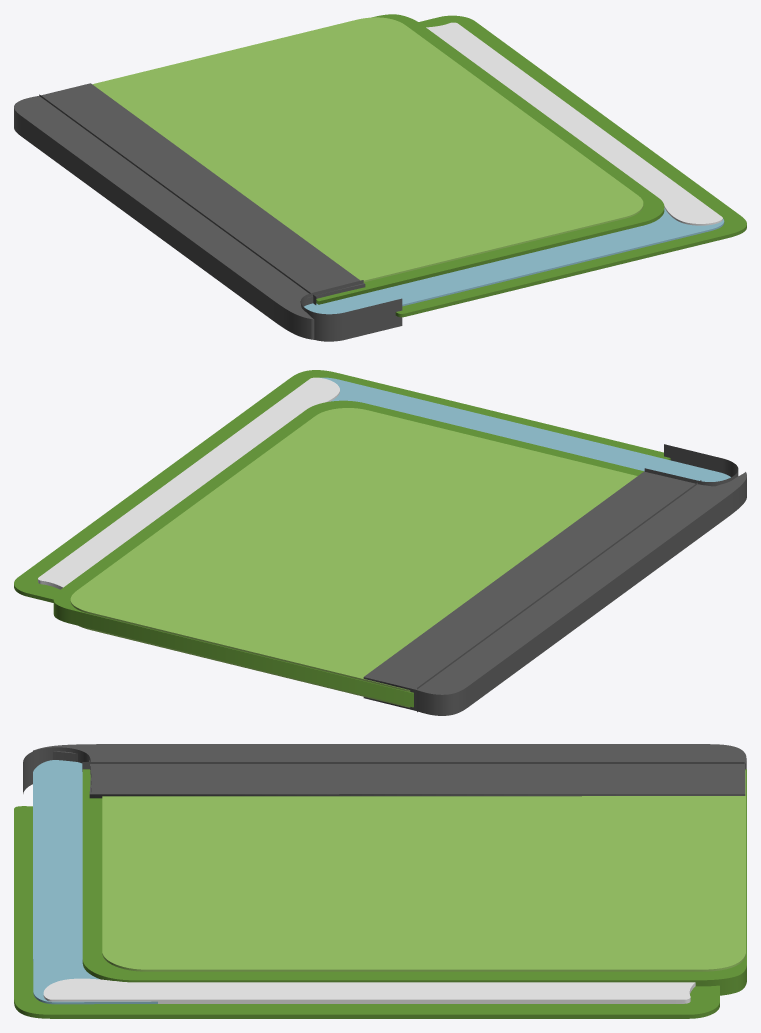
The model's file is emoji_u1f4d7.glb.
The picture shows the model from 3 angles, top to bottom: view 1: azimuth 30°, elevation 25°; view 2: azimuth 150°, elevation 25°; view 3: azimuth 270°, elevation 25°; orthographic projection. The views are drawn at different scales.
Parts seen in each view (by area): view 1: emoji_u1f4d7; view 2: emoji_u1f4d7; view 3: emoji_u1f4d7.
Boxes of the visible parts, x1,y1,x2,y2 form: emoji_u1f4d7: [14, 14, 746, 341]; emoji_u1f4d7: [14, 370, 746, 715]; emoji_u1f4d7: [14, 744, 746, 1018].
Size of the model in its own units: 0.0272 by 0.0016 by 0.0324.
